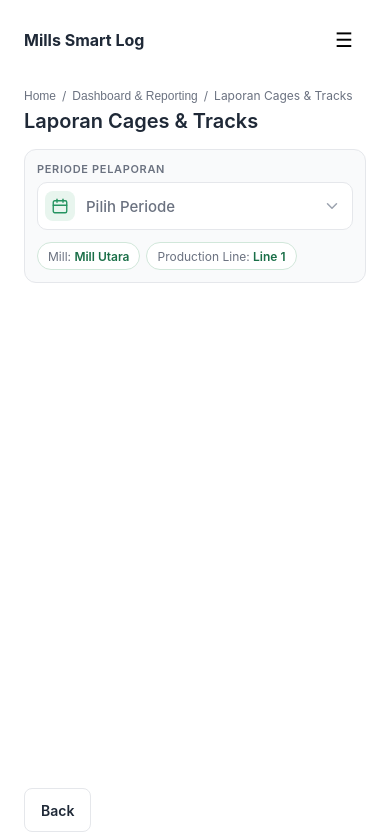
it: LaporanCagesTrackView — test_scenarios / component_test (tech spec screen-136) › penumpahan hanya pada satu jam — jeda terpanjang terbaca tidak dapat dihitung, tanpa "0 jam"
Select "Cages Track — Periode Maret 2026" in the dropdown with test id "period-select". click: (195, 206)
box: [37, 182, 353, 230]
(page scrolled)
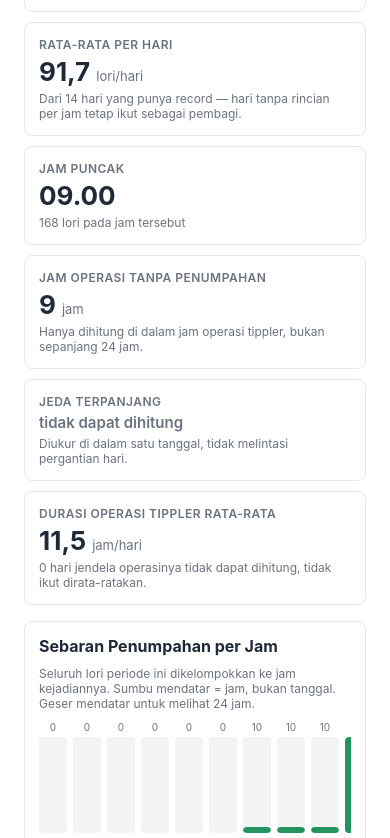
expect the text with test id "kpi-longest-gap" reads "tidak dapat dihitung": met, box [39, 413, 183, 432]
